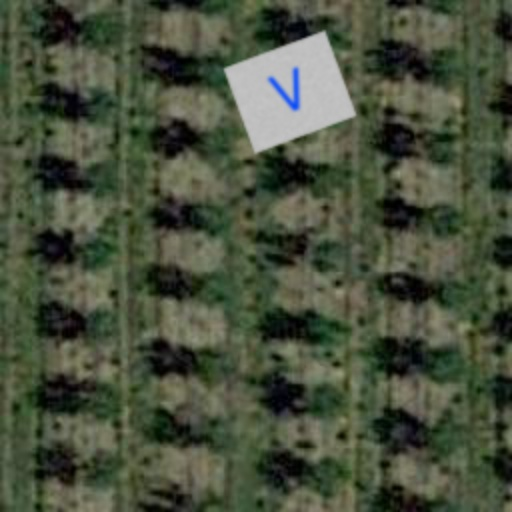rectangle: (220, 22, 360, 162)
